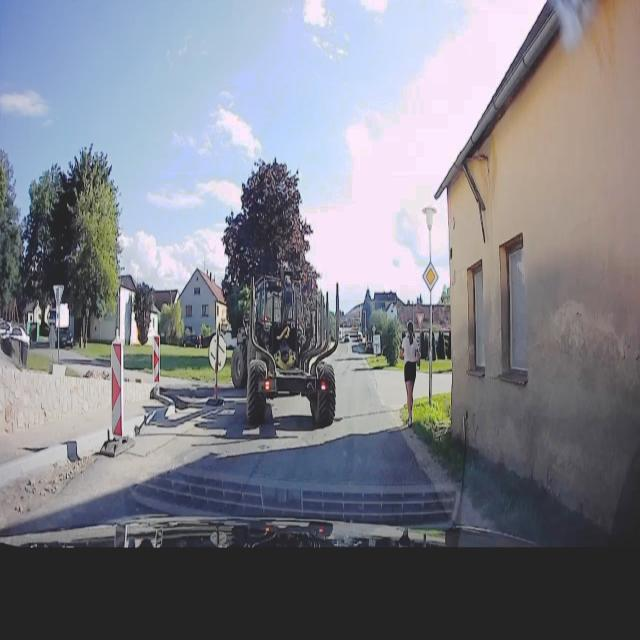Priority road: (421, 259, 439, 292), (371, 322, 376, 333)
